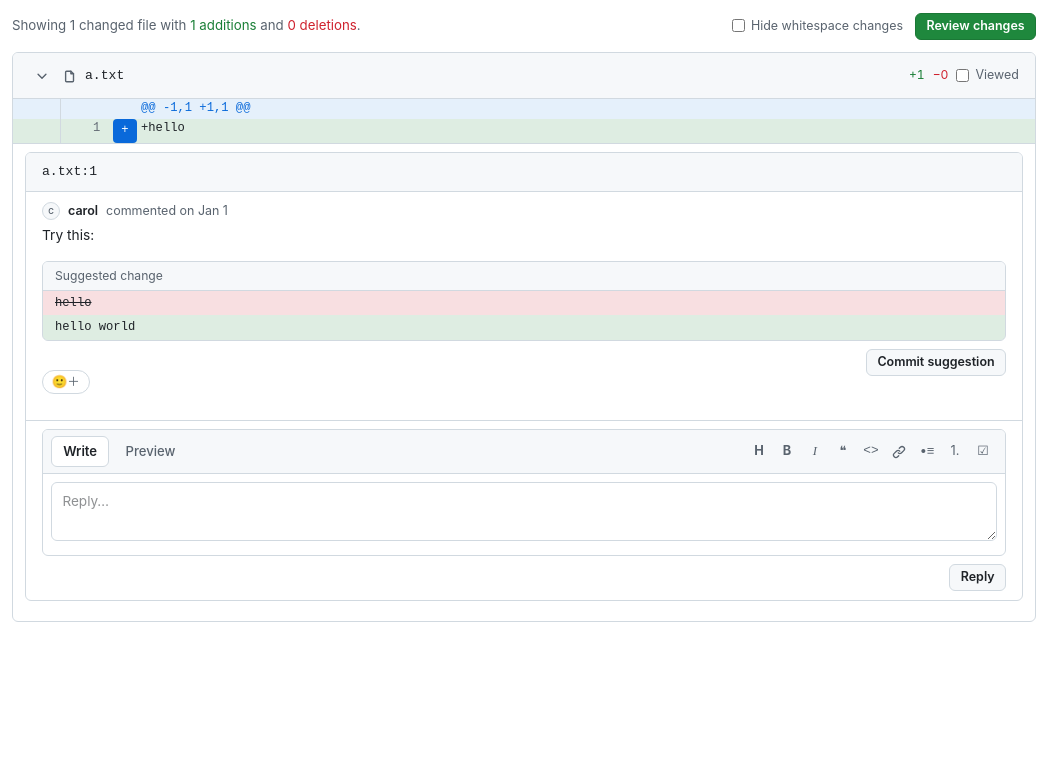
Scenario: PRFilesView commit suggestion › commits a RIGHT-side line-anchored suggestion and invalidates pr-files and pr-timeline
The width and height of the screenshot is (1048, 780).
Click the button "Commit suggestion" at (936, 362), box [866,349,1006,376]
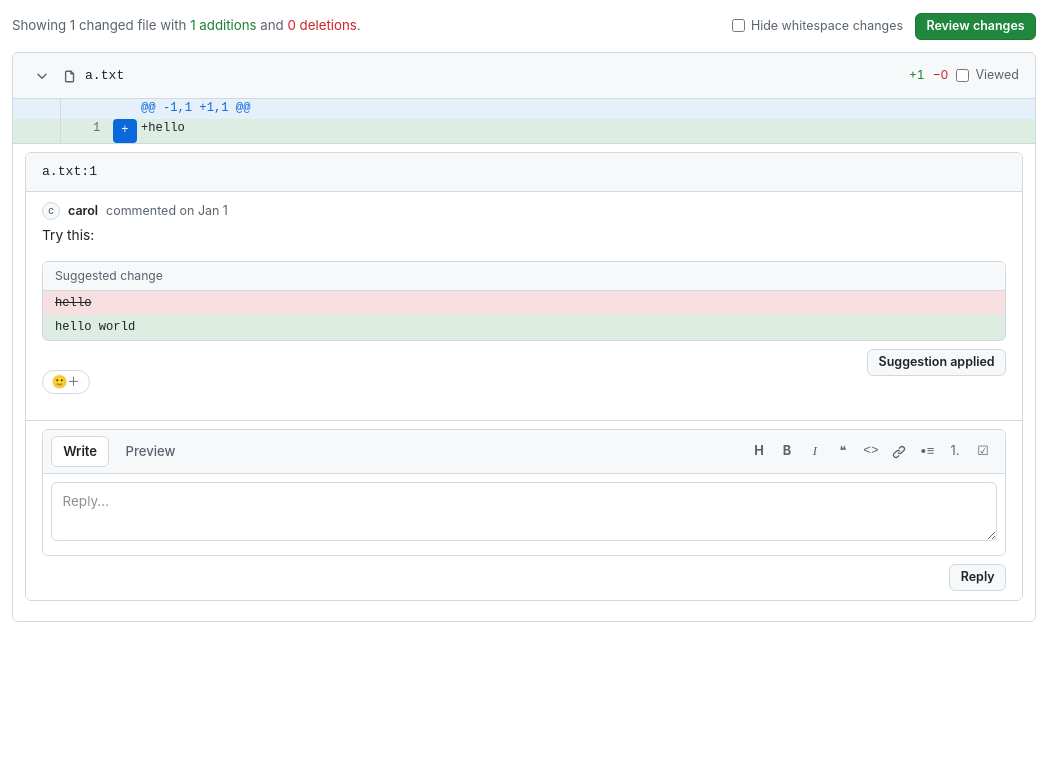
Check: the button "Suggestion applied" is shown, box [867,349,1006,376]
